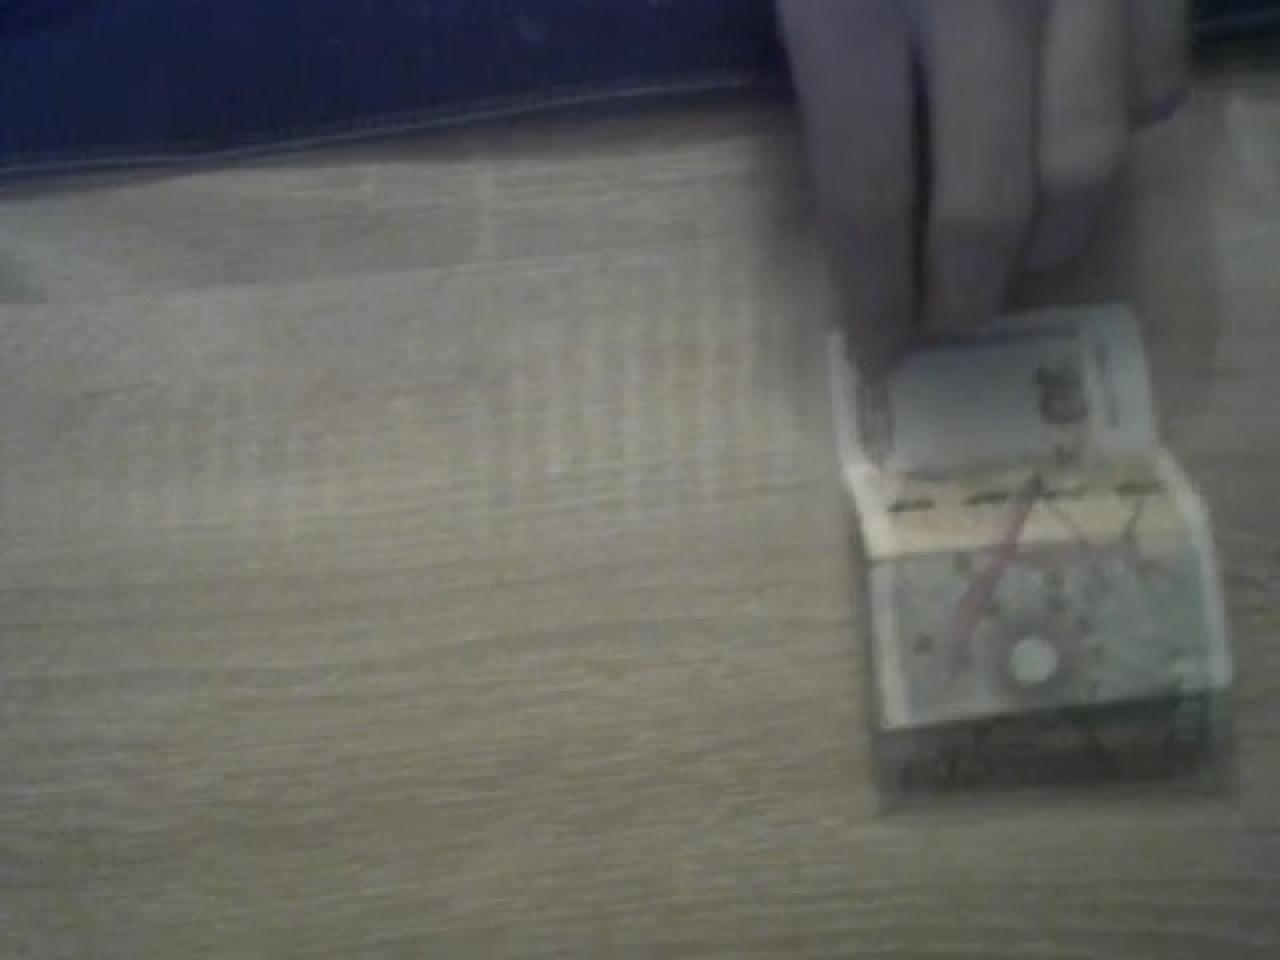10leva: (779, 0, 1238, 814)
